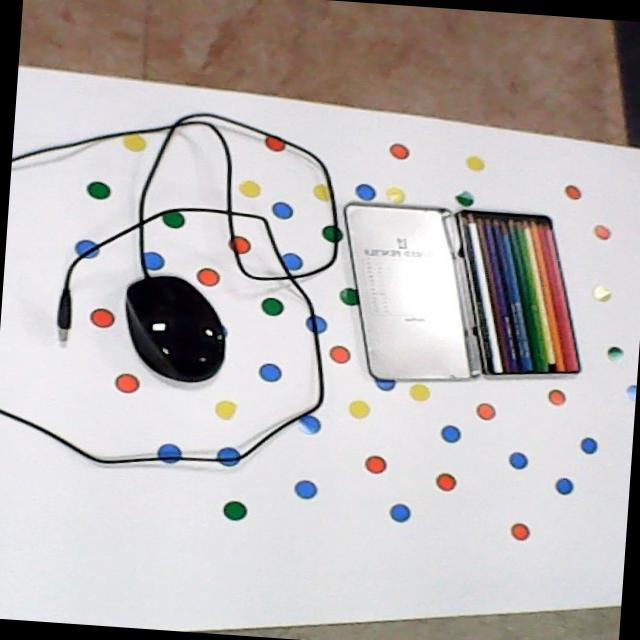color: (442, 208, 590, 379)
mouse: (91, 245, 242, 400)
